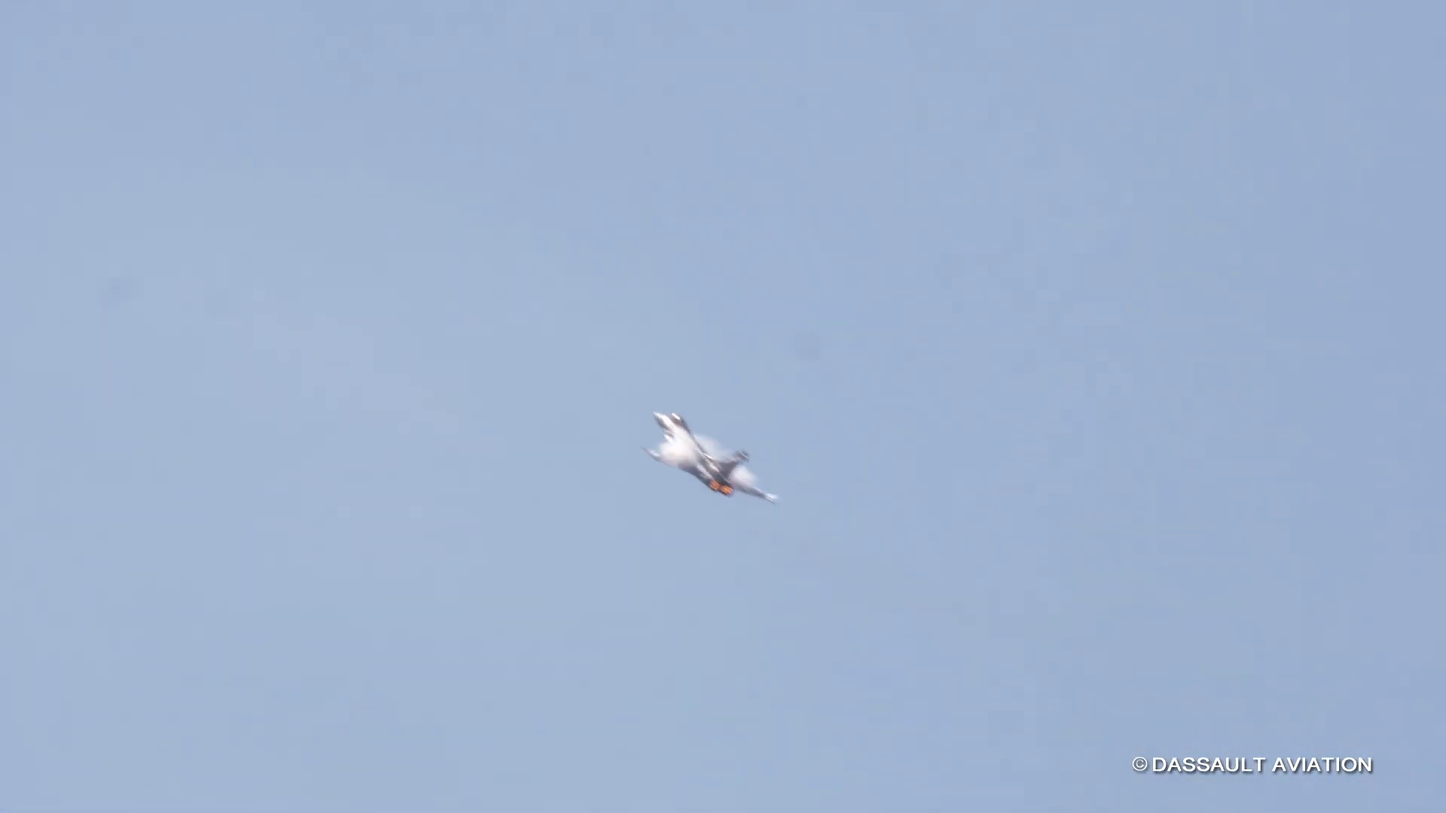Rafale: (638, 400, 785, 513)
